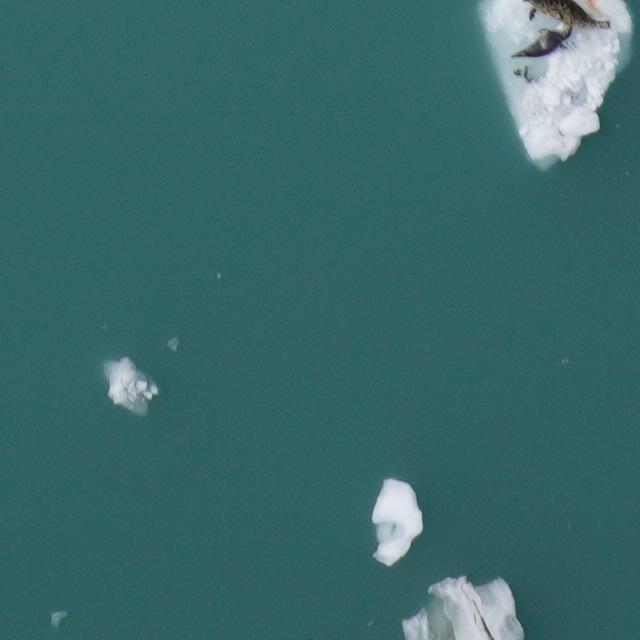seal: (505, 18, 580, 64)
